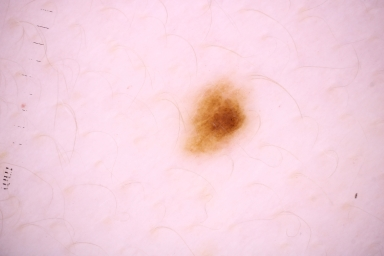melanoma: (187, 80, 246, 155)
